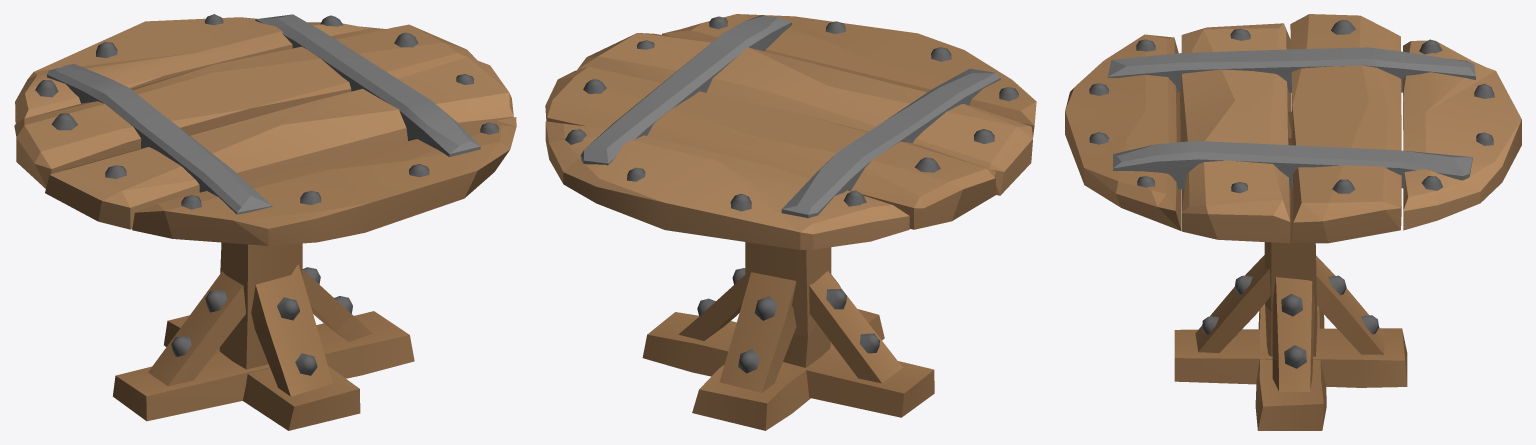
Rendered from Table_E.fbx.
3 renders of one model, left to right at view 1: azimuth 30°, elevation 25°; view 2: azimuth 150°, elevation 25°; view 3: azimuth 270°, elevation 25°, orthographic. The views are drawn at different scales.
Parts seen in each view (by area): view 1: Table_E; view 2: Table_E; view 3: Table_E.
Boxes of the visible parts, left/top/right/bottom form: Table_E: left=14, top=14, right=516, bottom=430; Table_E: left=545, top=14, right=1036, bottom=430; Table_E: left=1065, top=14, right=1521, bottom=430.
Bounding box in the file's own units: 161 × 101 × 153.
